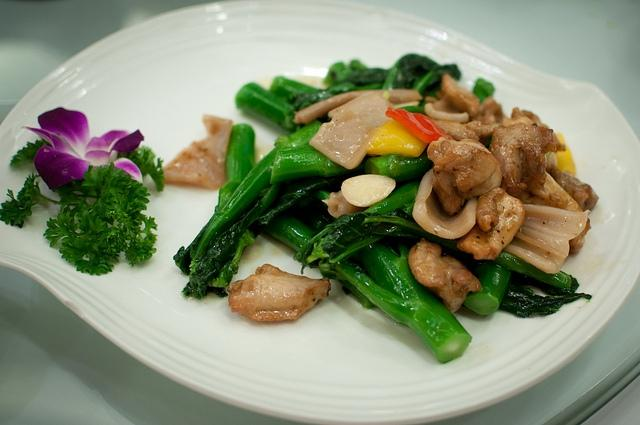almond: (342, 174, 396, 207)
bell pepper: (366, 118, 428, 158), (385, 108, 446, 144), (556, 134, 575, 176)
broccoli: (319, 239, 472, 363), (361, 216, 572, 288), (270, 144, 380, 184), (235, 82, 304, 134), (218, 123, 256, 210), (463, 264, 511, 316), (364, 150, 434, 183), (381, 53, 442, 90), (260, 212, 316, 252), (323, 59, 392, 86), (268, 76, 318, 102), (472, 78, 496, 104)
